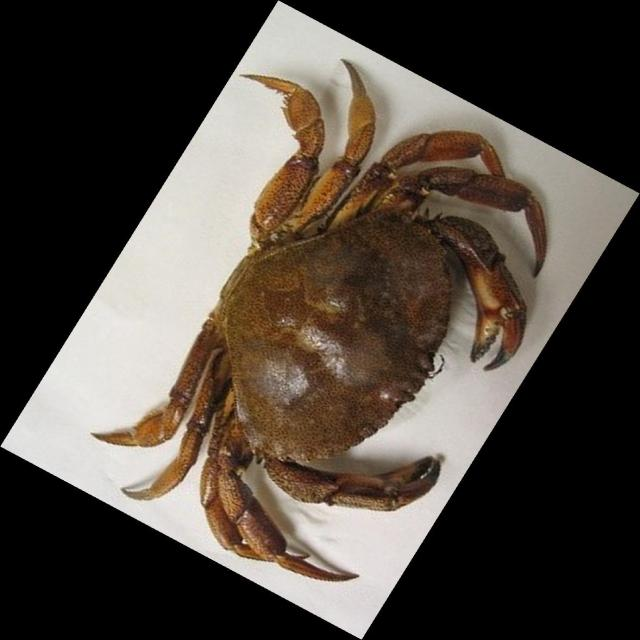Native Rock crab: (93, 61, 547, 581)
